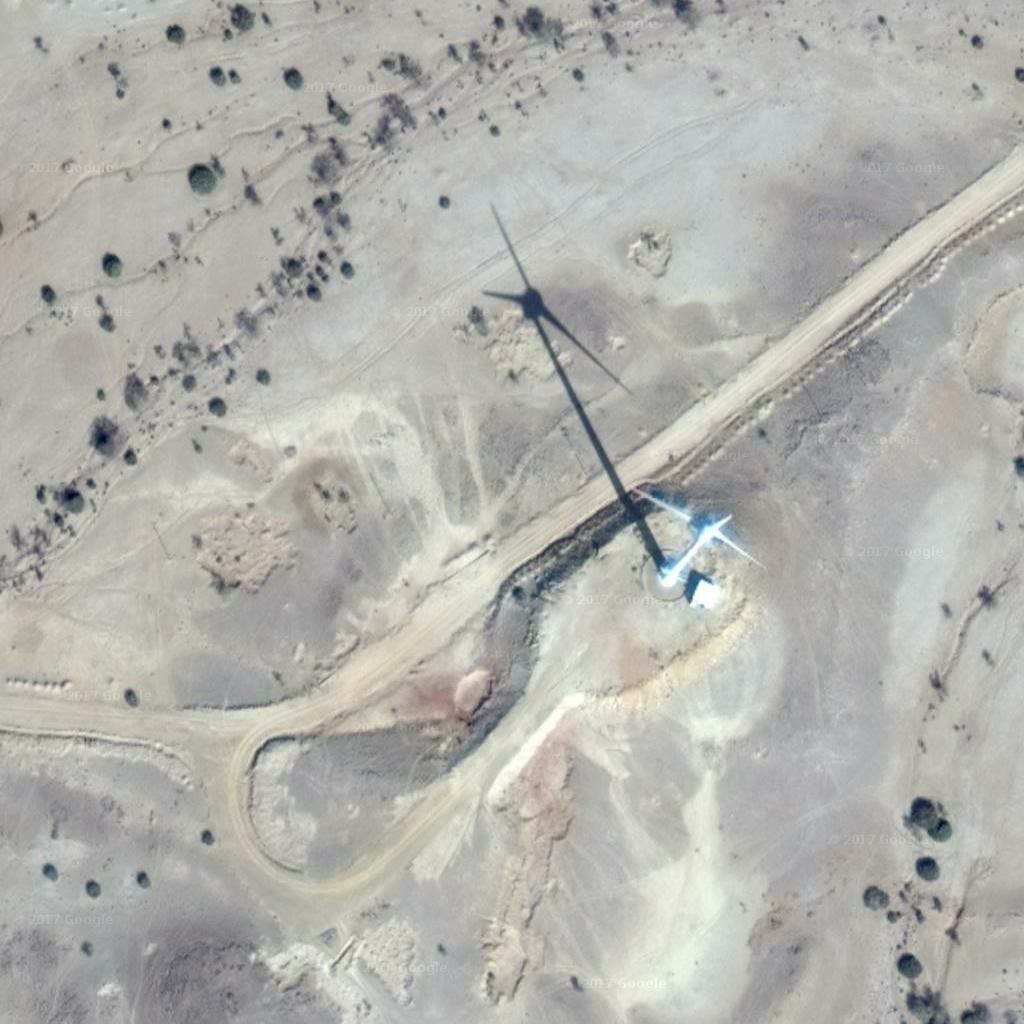Windmill: (459, 196, 689, 567)
